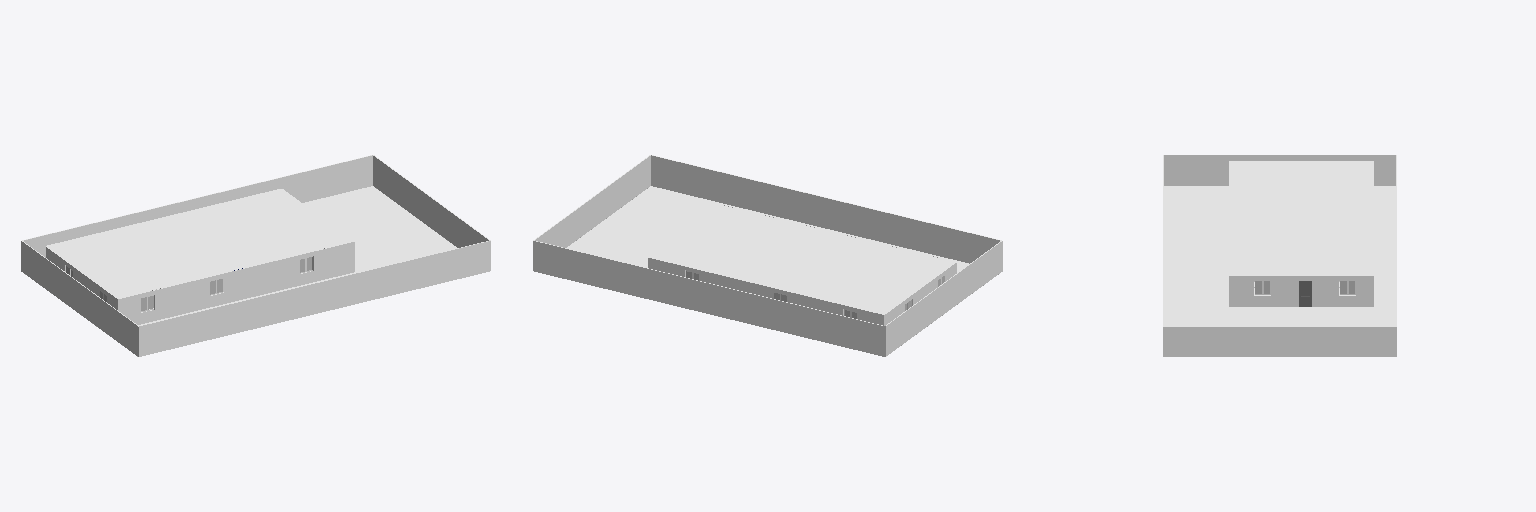
File: Casita.obj
3 views of the same model, side by side, from view 1: azimuth 30°, elevation 25°; view 2: azimuth 150°, elevation 25°; view 3: azimuth 270°, elevation 25° (orthographic).
Visible parts, largest first — view 1: room_15_82, wall_7_40, room_14_80, wall_2_11, wall_5_29, wall_8_46, wall_6_35, wall_1_5; view 2: room_15_82, wall_5_28, wall_7_41, room_14_80, wall_8_46, wall_6_35, wall_4_23, wall_1_5; view 3: room_15_82, room_14_80, wall_6_34, wall_3_17, wall_8_47.
Boxes of the visible parts, x1=… form: room_15_82: x1=47, y1=189, x2=352, y2=298; wall_7_40: x1=139, y1=241, x2=490, y2=356; room_14_80: x1=138, y1=186, x2=456, y2=325; wall_2_11: x1=118, y1=242, x2=354, y2=324; wall_5_29: x1=24, y1=155, x2=372, y2=257; wall_8_46: x1=21, y1=241, x2=138, y2=356; wall_6_35: x1=373, y1=156, x2=488, y2=247; wall_1_5: x1=46, y1=247, x2=117, y2=309; room_15_82: x1=648, y1=205, x2=954, y2=314; wall_5_28: x1=533, y1=241, x2=884, y2=356; wall_7_41: x1=651, y1=155, x2=999, y2=263; room_14_80: x1=567, y1=186, x2=968, y2=356; wall_8_46: x1=885, y1=241, x2=1002, y2=356; wall_6_35: x1=535, y1=156, x2=650, y2=247; wall_4_23: x1=648, y1=258, x2=884, y2=325; wall_1_5: x1=885, y1=263, x2=956, y2=325; room_15_82: x1=1230, y1=161, x2=1373, y2=275; room_14_80: x1=1164, y1=186, x2=1395, y2=325; wall_6_34: x1=1163, y1=327, x2=1396, y2=356; wall_3_17: x1=1229, y1=276, x2=1373, y2=306; wall_8_47: x1=1164, y1=155, x2=1395, y2=185.
Bounding box in the file's own units: 3008 × 250 × 1738.